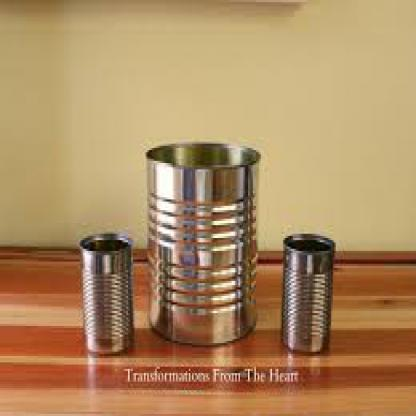METAL: (144, 140, 259, 346), (77, 232, 133, 354), (280, 232, 333, 352)
